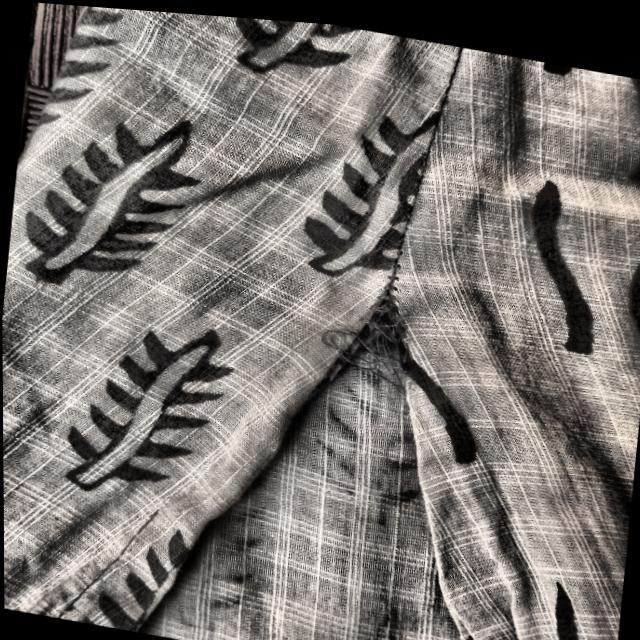Stitch: (230, 241, 472, 447)
